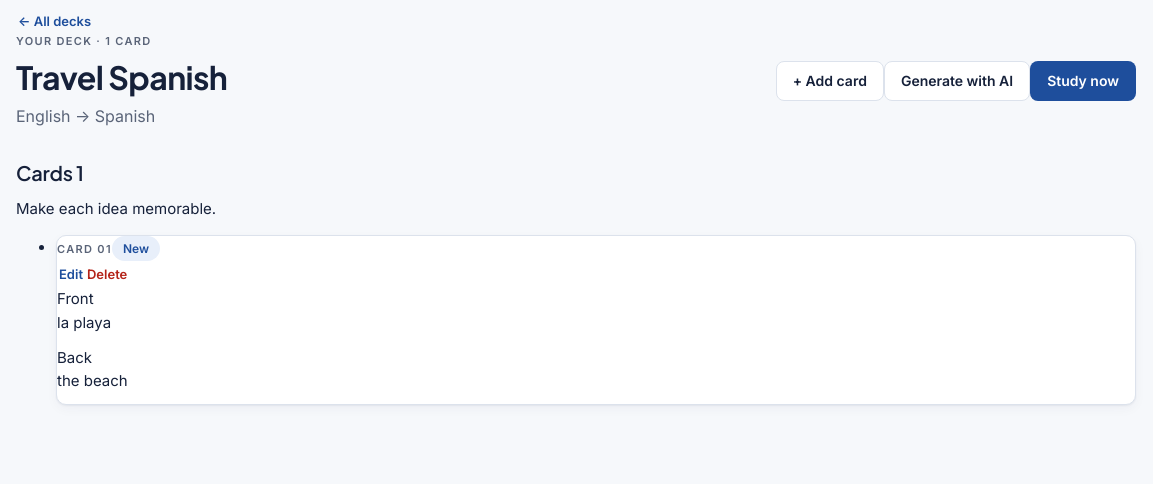
deleting a card asks first, then removes it
Click the button with aria-label "Delete card 1" at (107, 274), box [85,261,129,287]
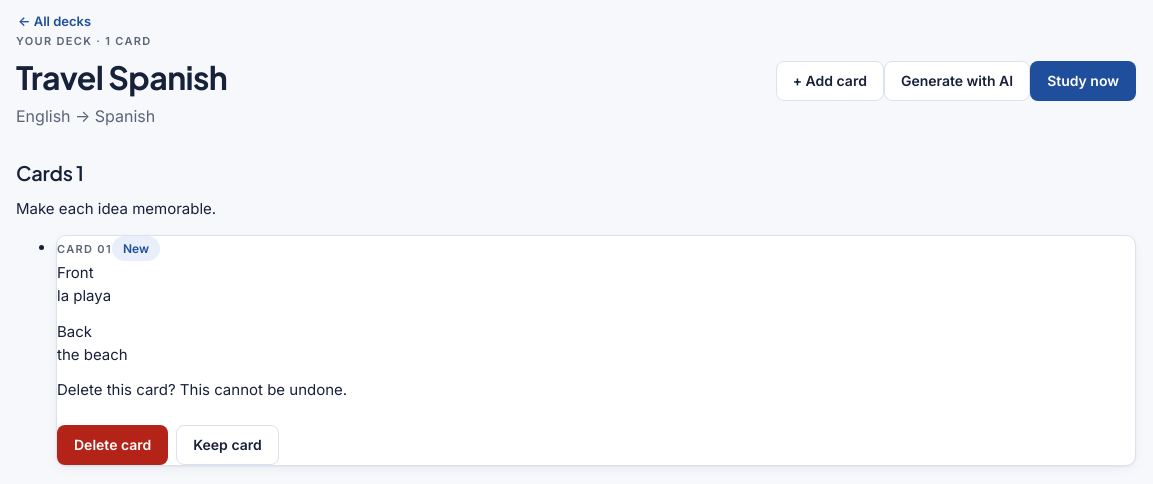
Click the button "Delete card" at (113, 446), box [57,426,168,466]
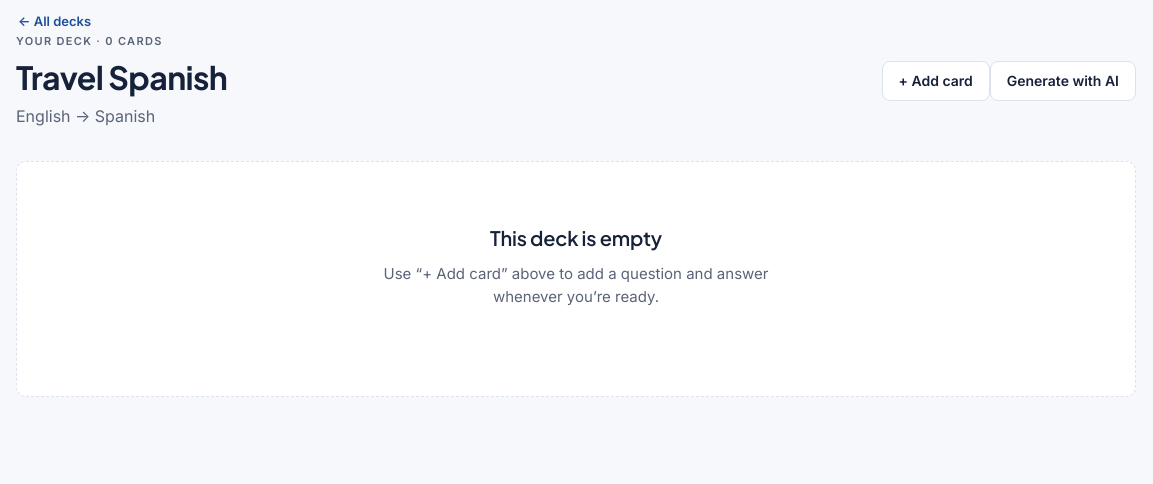
Check: the heading "This deck is empty" is shown, box [490,225,662,250]
